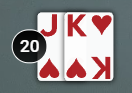j: (34, 9, 64, 40)
k: (61, 8, 92, 41)
